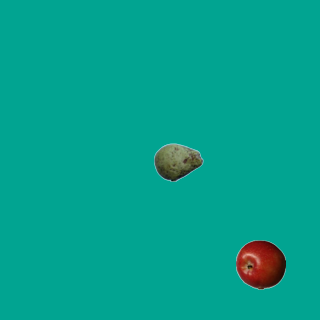Apple Braeburn: (235, 239, 285, 289)
Pear Stone: (153, 137, 203, 187)
